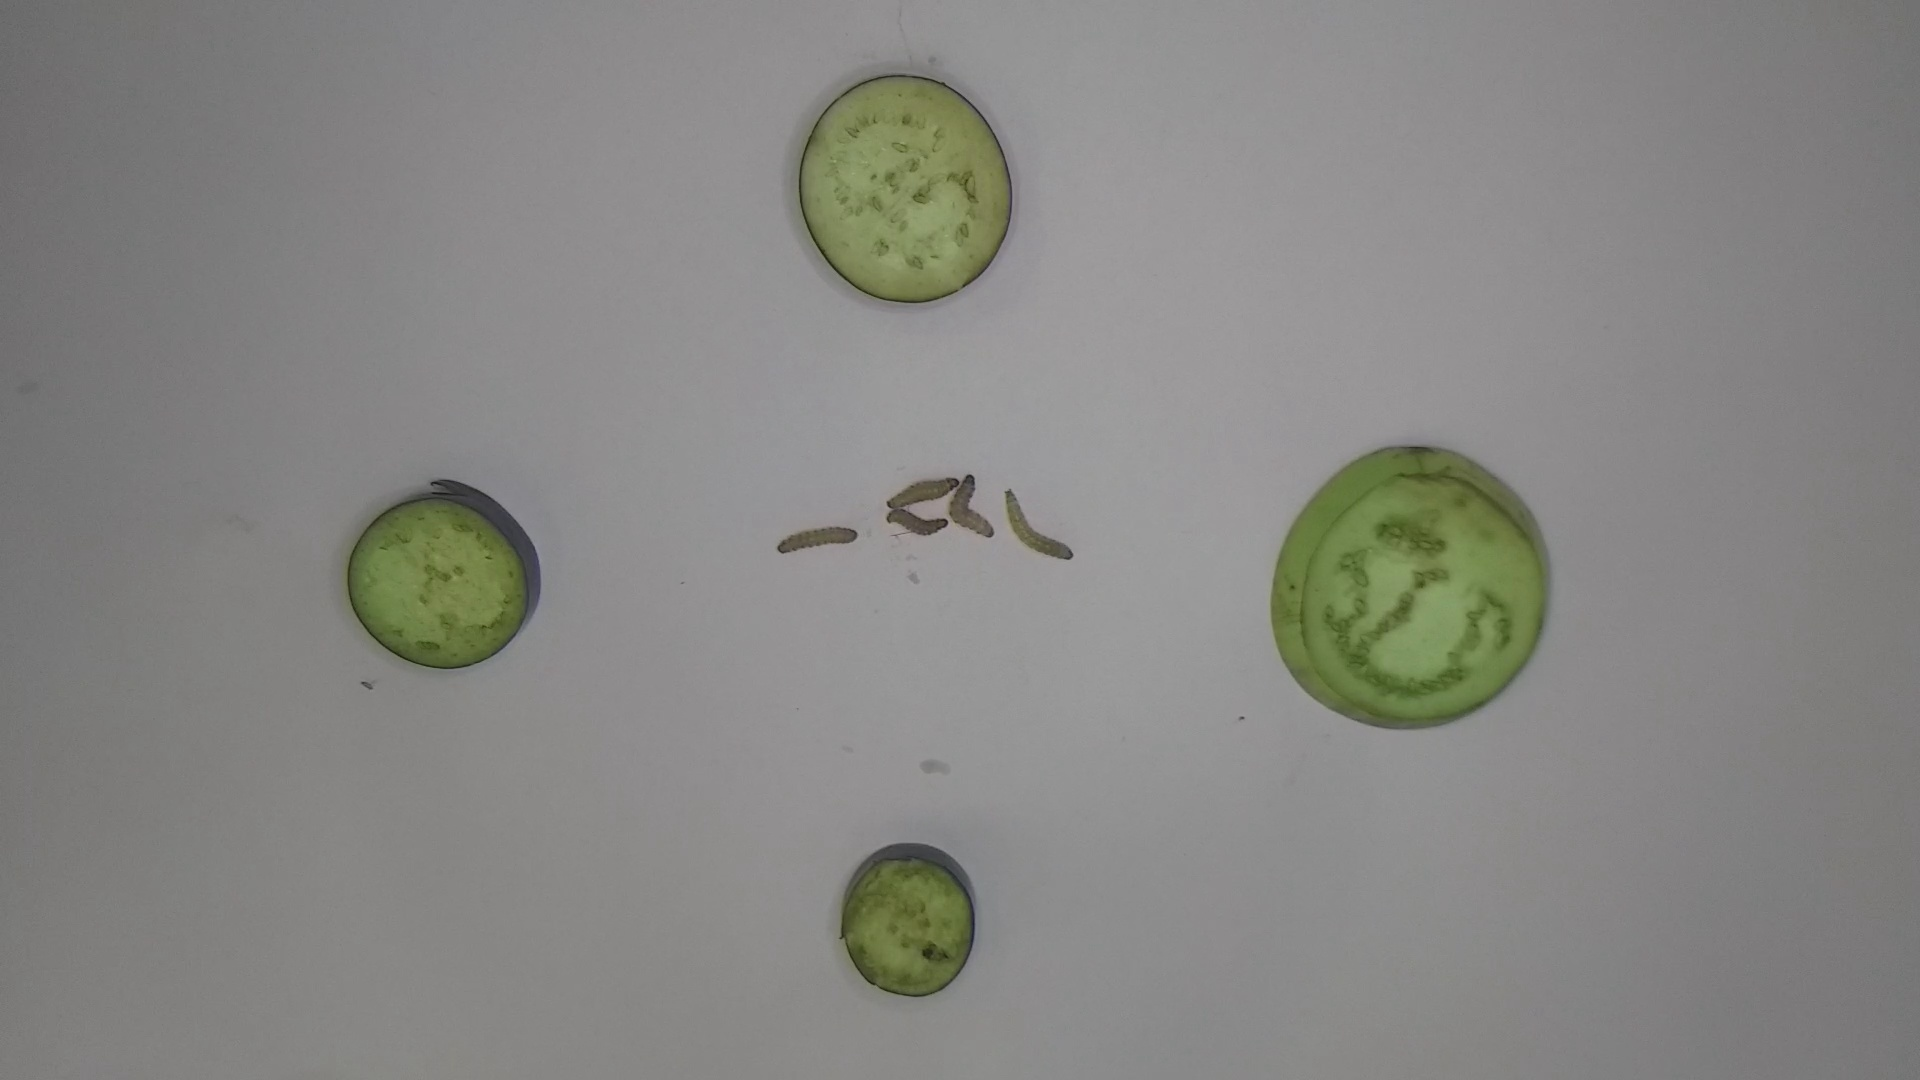efsb: (1001, 487, 1084, 568), (767, 521, 862, 560), (952, 469, 1000, 545), (881, 469, 961, 506), (880, 505, 951, 541)
eggplant: (1265, 434, 1557, 738), (796, 69, 1015, 313), (342, 473, 554, 674), (837, 839, 988, 1005)
